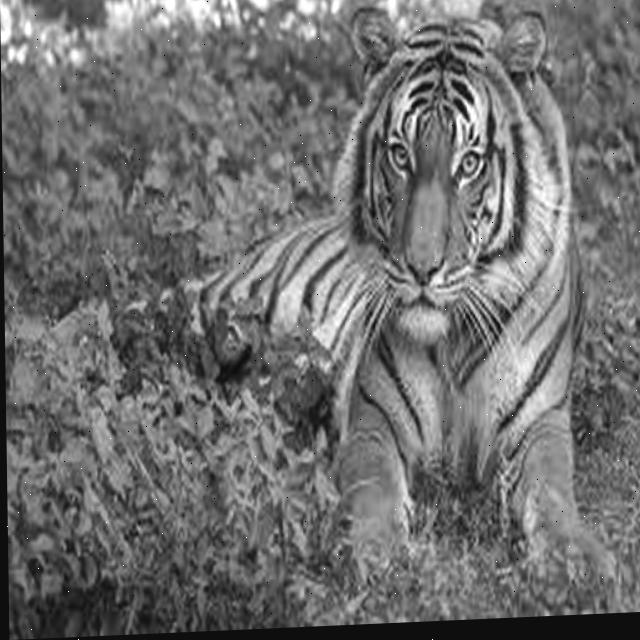Tiger: (43, 0, 619, 610)
